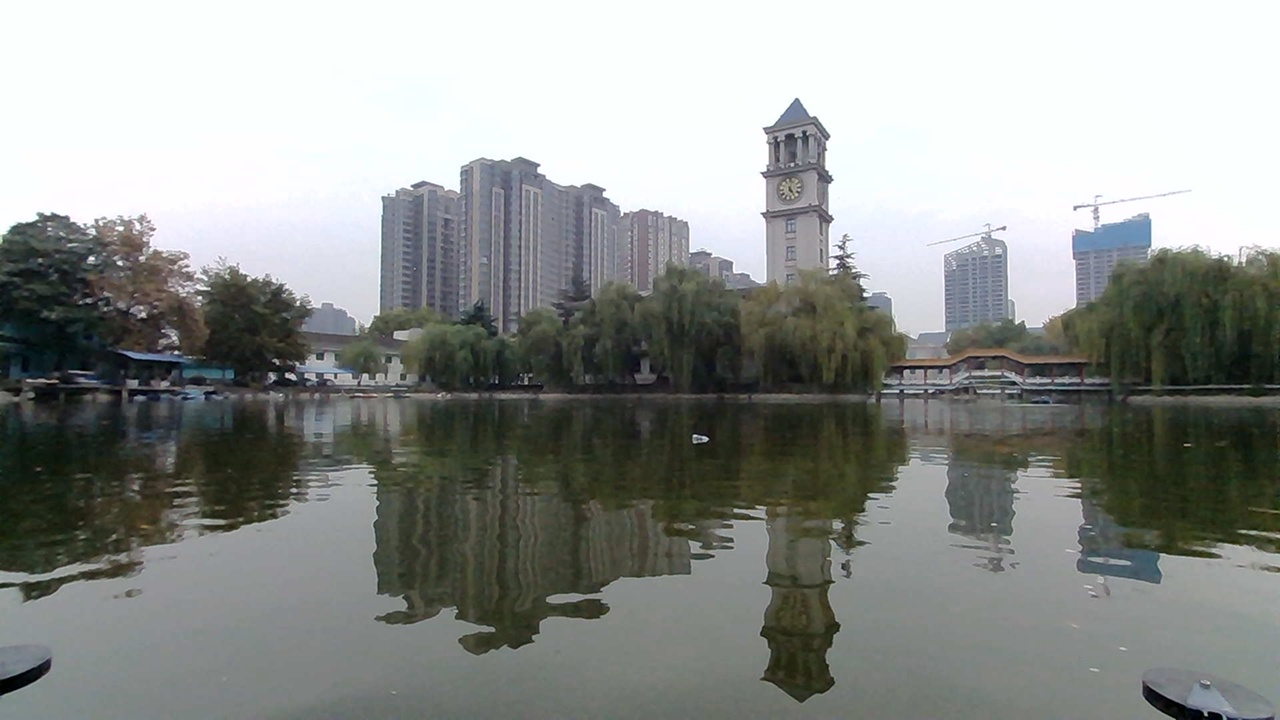bottle: (685, 421, 724, 451)
